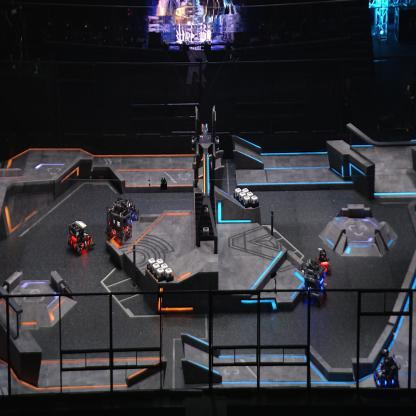car: (104, 196, 133, 245), (372, 347, 400, 390), (302, 258, 328, 303), (66, 219, 96, 254), (313, 248, 332, 277), (123, 198, 139, 222)
